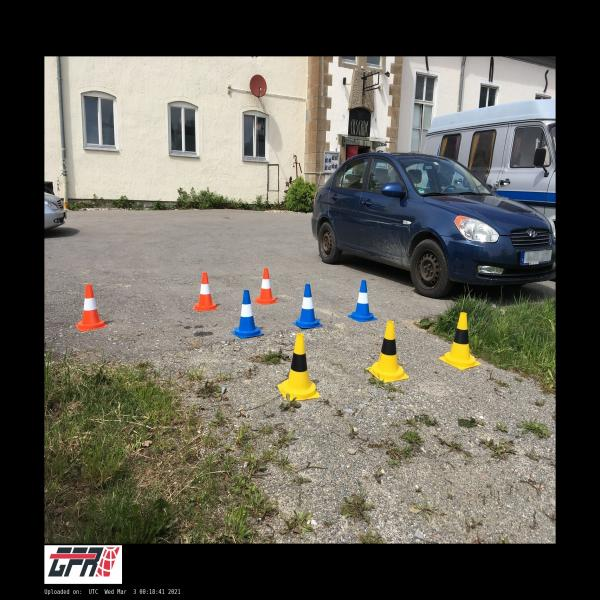blue_cone: (232, 290, 263, 339), (293, 284, 323, 328), (348, 280, 377, 322)
orange_cone: (76, 284, 107, 331), (193, 272, 218, 311), (254, 268, 279, 304)
yellow_cone: (278, 334, 320, 400), (367, 321, 410, 382), (440, 312, 481, 369)
